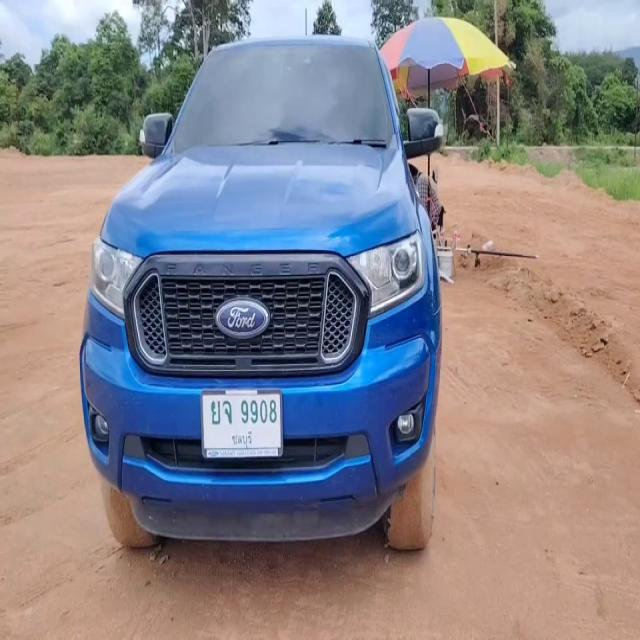Digit: (240, 397, 278, 427)
Licenseplate: (199, 389, 284, 459)
Provincename: (232, 428, 253, 451)
Thaichar: (209, 399, 233, 426)
